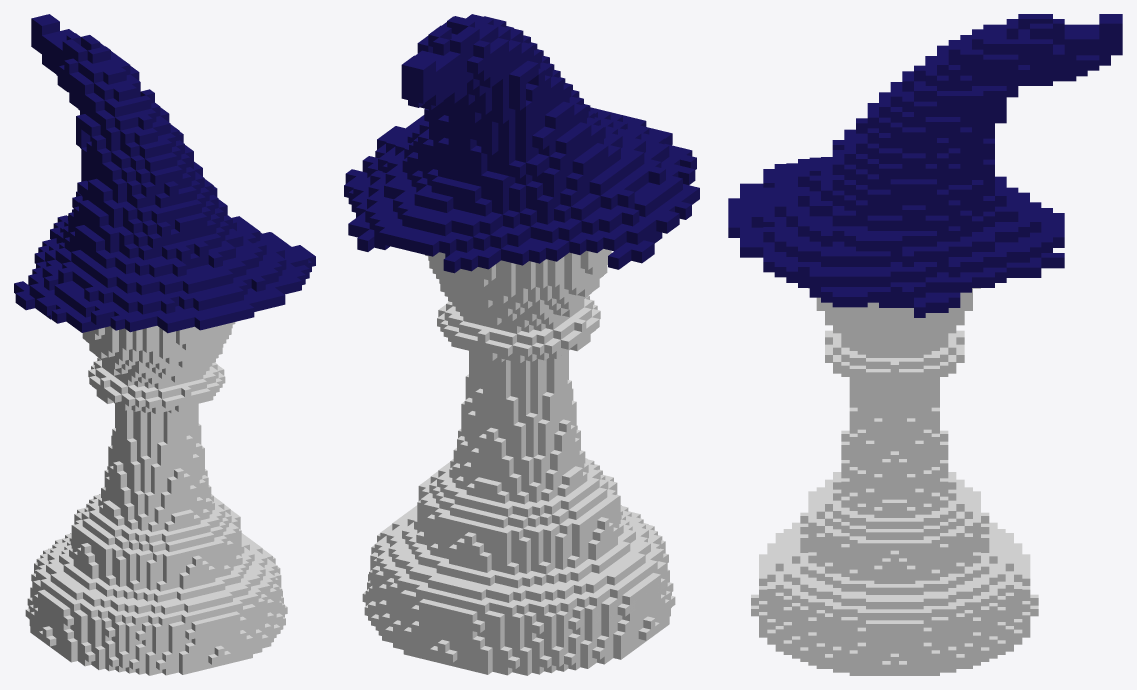
The model's file is WizardRotFix.fbx.
3 renders of one model, left to right at view 1: azimuth 30°, elevation 25°; view 2: azimuth 150°, elevation 25°; view 3: azimuth 270°, elevation 25°, orthographic. The views are drawn at different scales.
Parts seen in each view (by area): view 1: Wizard; view 2: Wizard; view 3: Wizard.
Part boxes in pixels (box(x1,y1,x2,y2)): Wizard: box(14, 14, 315, 675); Wizard: box(344, 14, 699, 675); Wizard: box(728, 14, 1122, 675).
Size of the model in its own units: 227 by 456 by 275.
